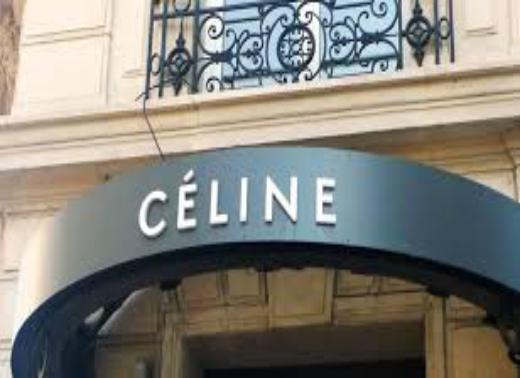CELINE: (130, 156, 344, 242)
